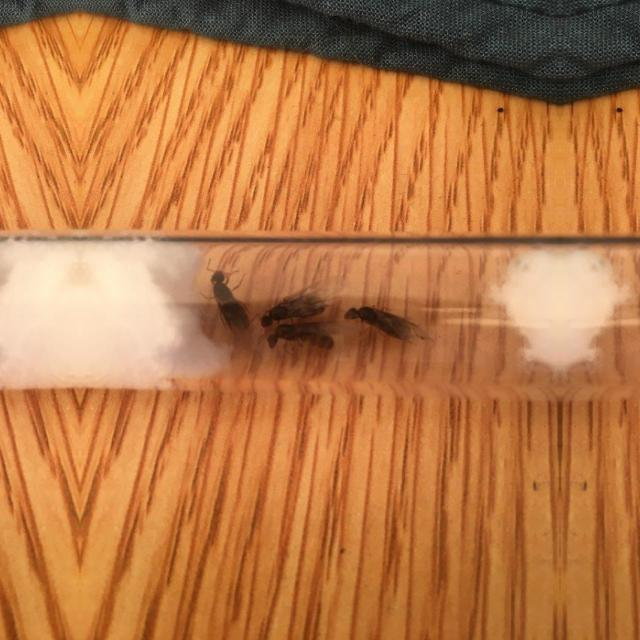Camponotus: (258, 272, 338, 324), (344, 296, 426, 346), (203, 264, 250, 334), (262, 320, 334, 356)
